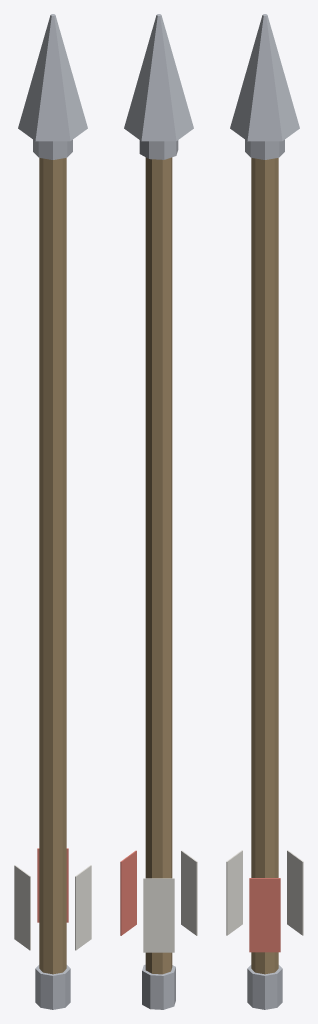
Rendered from arrow.glb.
3 views of the same model, side by side, from view 1: azimuth 90°, elevation 25°; view 2: azimuth 150°, elevation 25°; view 3: azimuth 270°, elevation 25° (orthographic).
Visible parts, largest first — view 1: arrow; view 2: arrow; view 3: arrow.
Boxes of the visible parts, left/top/right/bottom form: arrow: left=14, top=14, right=91, bottom=1009; arrow: left=120, top=14, right=197, bottom=1009; arrow: left=226, top=14, right=303, bottom=1009.
Bounding box in the file's own units: 0.0536 × 0.87 × 0.0619.
